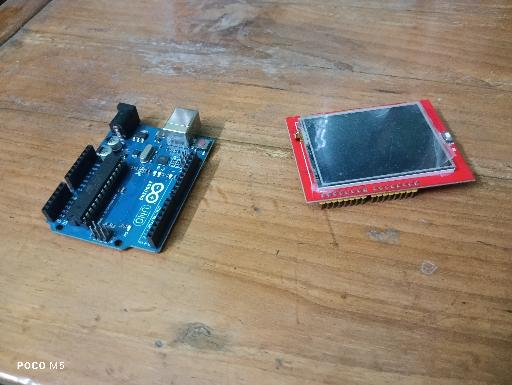Arduino: (40, 99, 217, 255)
Display: (283, 97, 478, 211)
